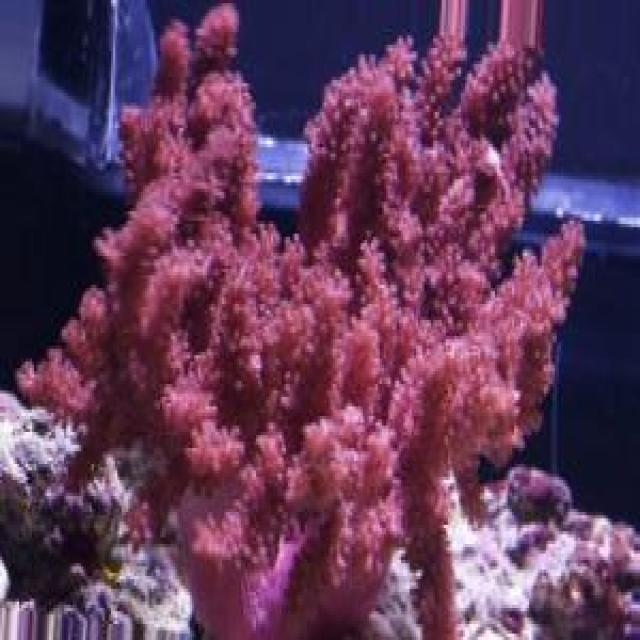healthy coral: (20, 10, 582, 638)
